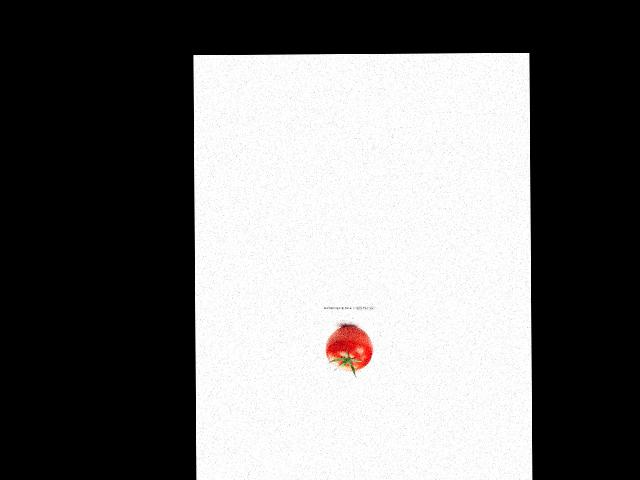tomato: (326, 325, 372, 371)
